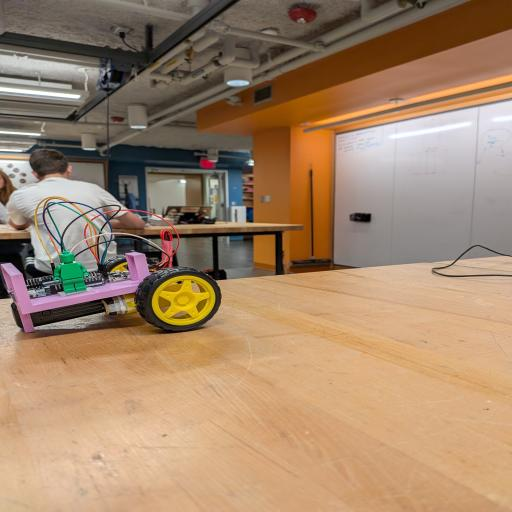Minifig: (54, 251, 89, 294)
